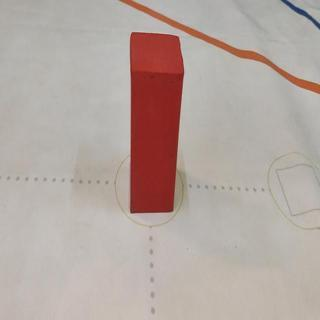redbox: (129, 32, 184, 213)
